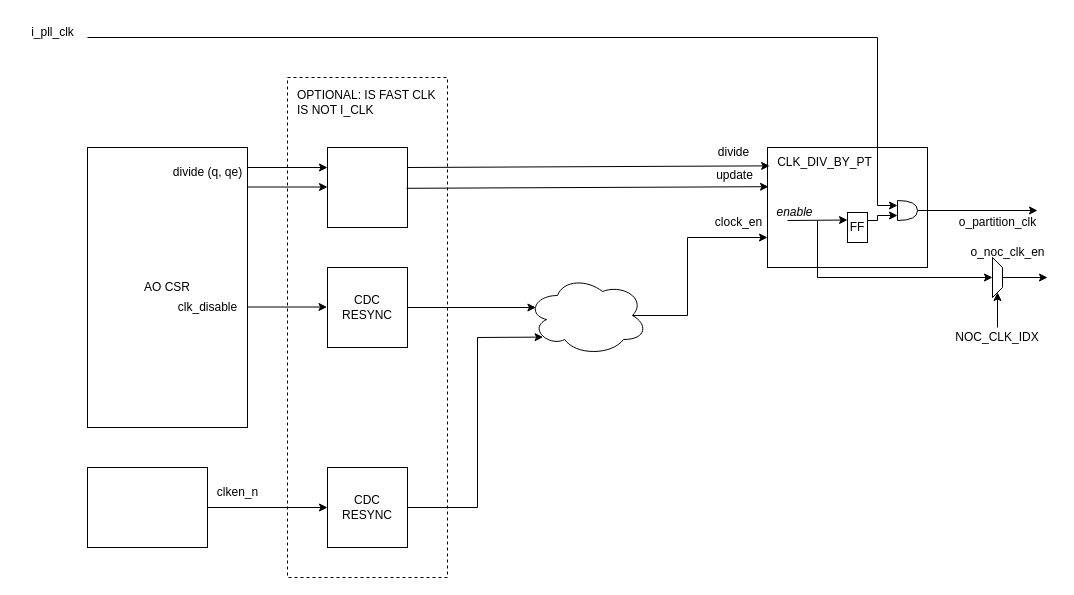
Image size: 1074x595. Some labels were removed from this diagram. Each missing label, with the centre of its shape:
CDC BUS: the point at 367,187
PPMU: the point at 147,507
